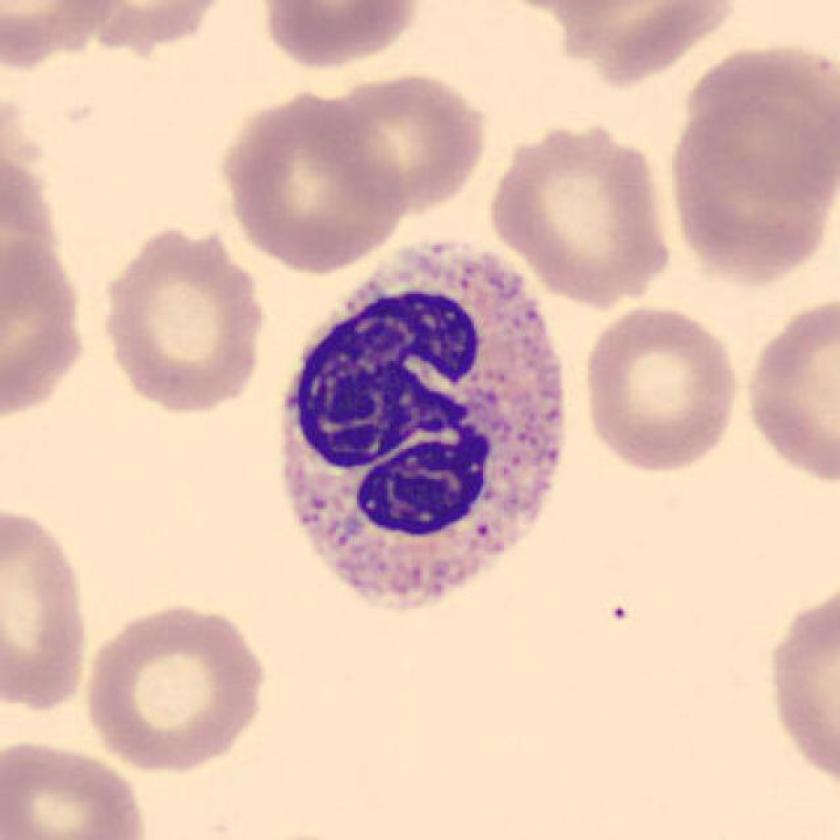neutrophil: (281, 240, 568, 606)
